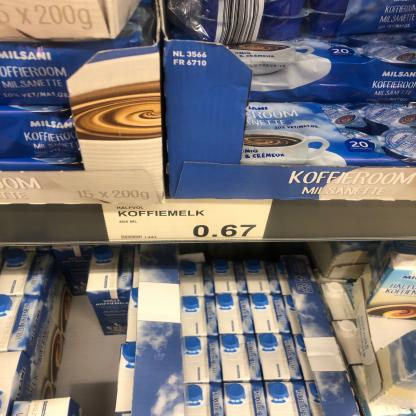prtg: (102, 200, 275, 244)
